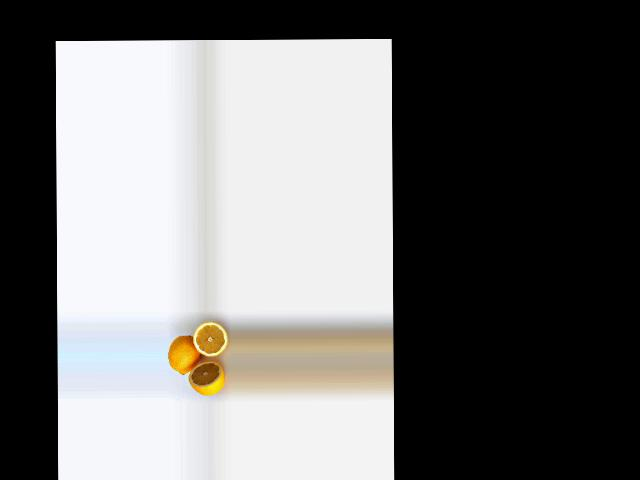lemon: (167, 331, 199, 378)
